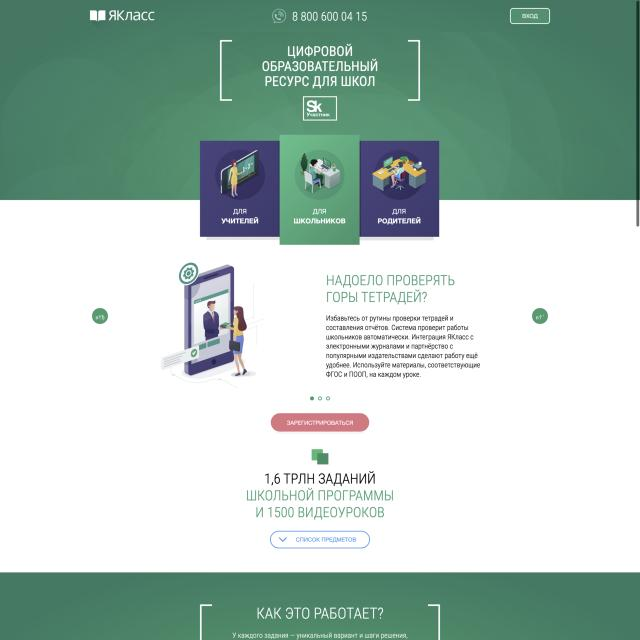logo: (88, 6, 158, 24)
